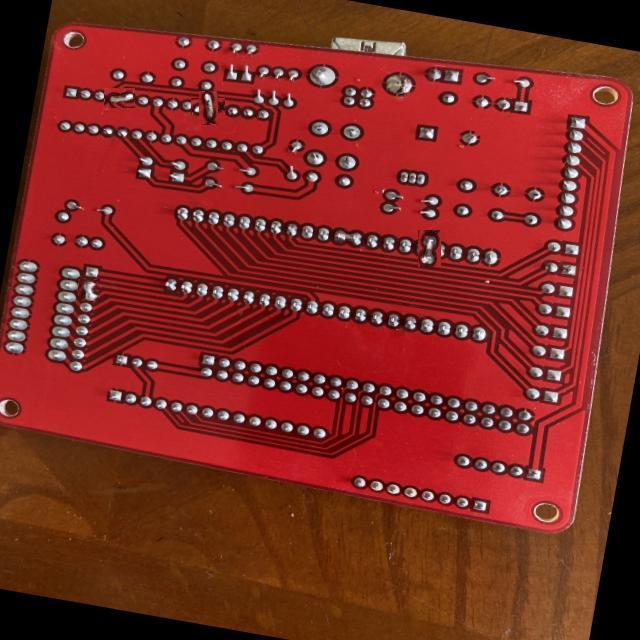damged: (414, 233, 445, 264), (327, 224, 365, 249), (195, 94, 222, 122), (104, 88, 135, 108), (78, 278, 100, 302)
